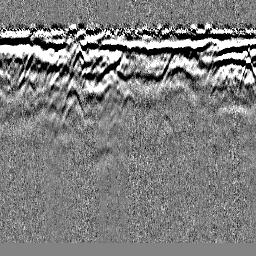cavity: (120, 86, 136, 111)
